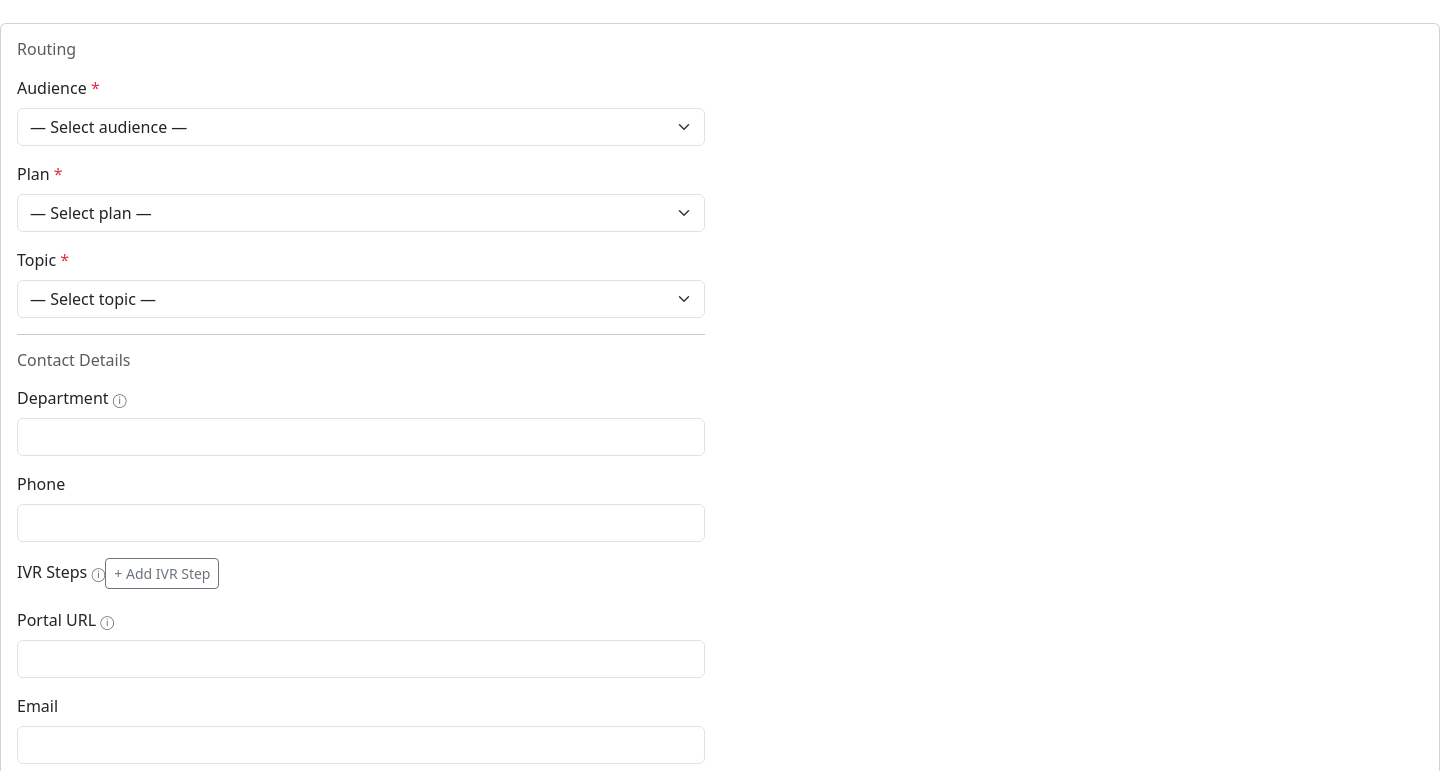
Scenario: PathwayFormPage › Create mode › shows validation error when plan not selected
Select "Employer" in the dropdown labelled "Audience *" at (361, 127), box [17,108,705,146]
(page scrolled)
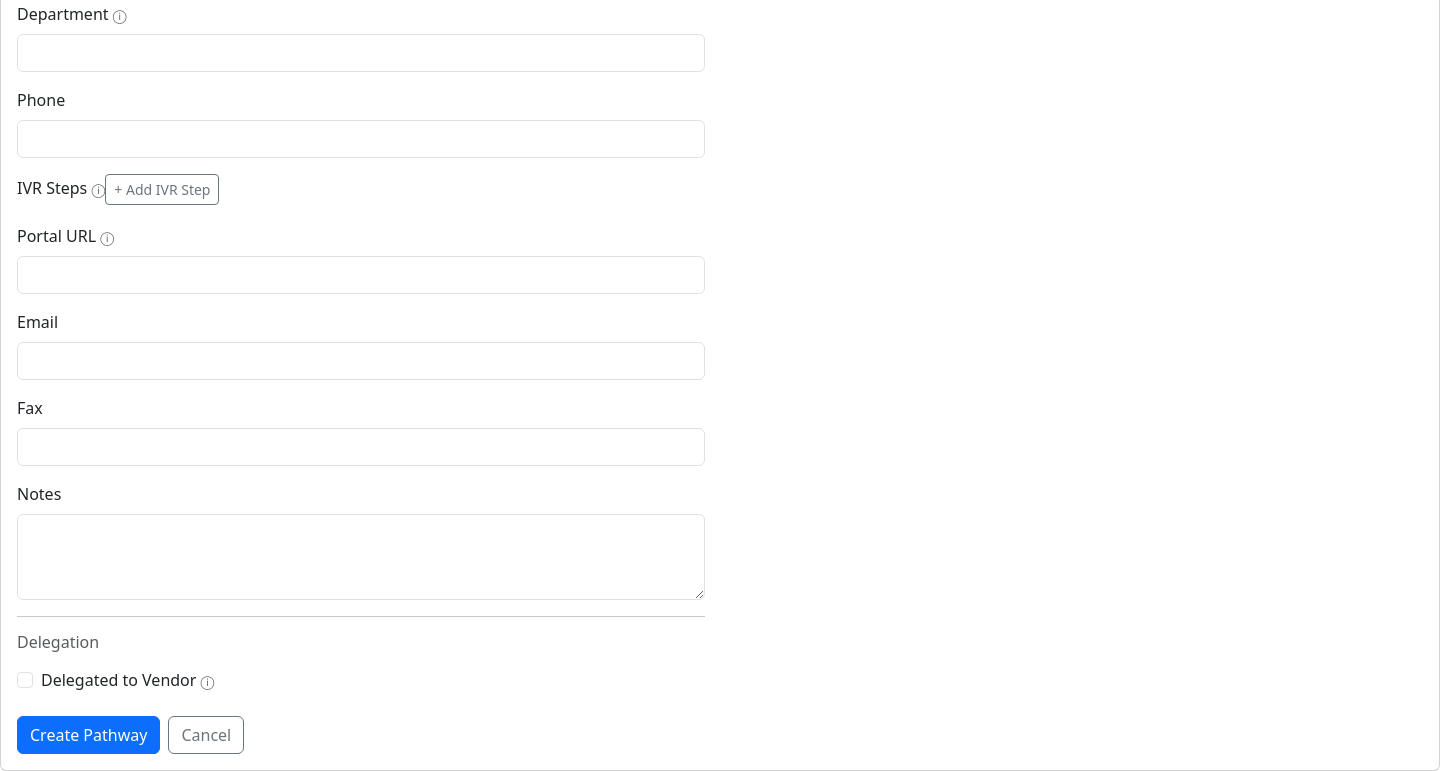
Click the button "Create Pathway" at (89, 735), box [17,716,160,754]
(page scrolled)
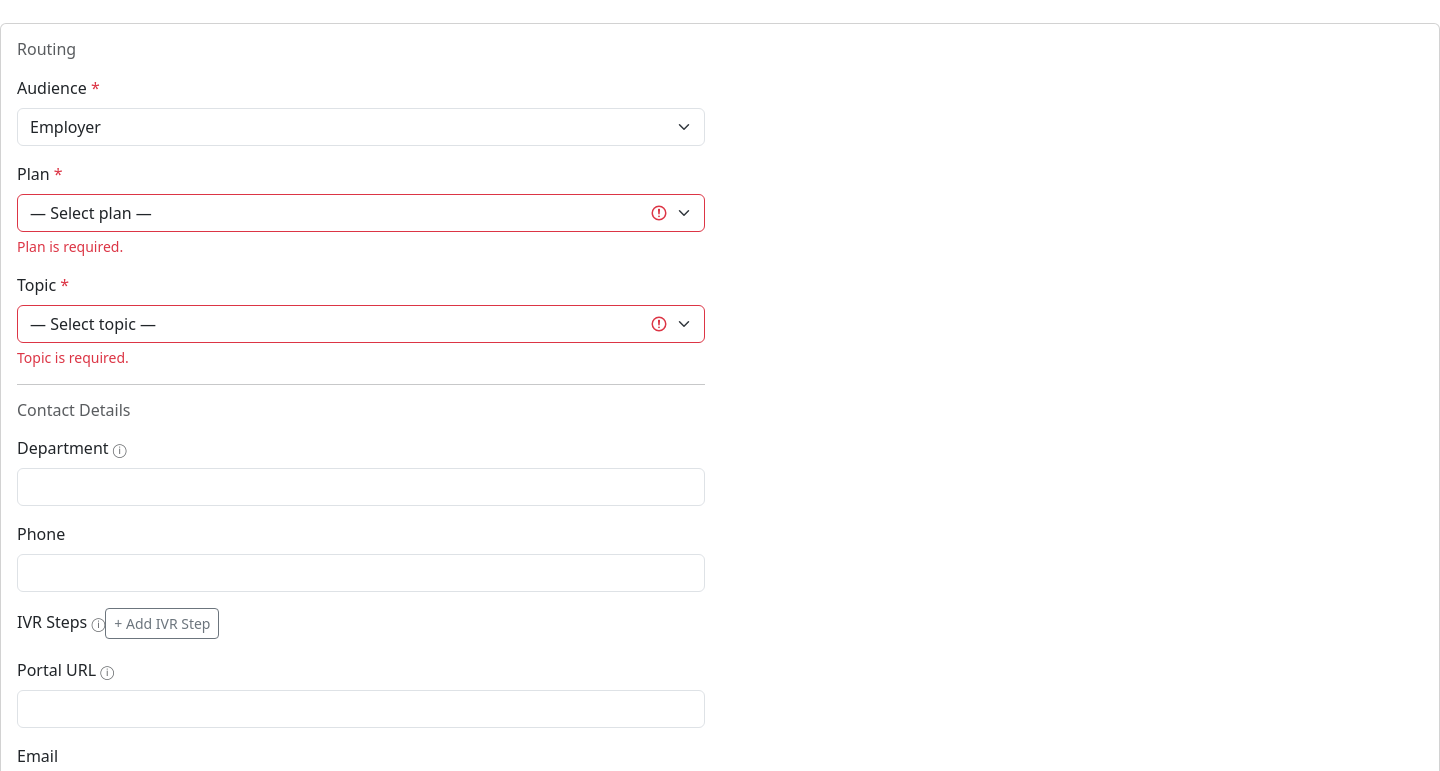
Expected: the text "Plan is required." is shown, [17,237,123,256]
